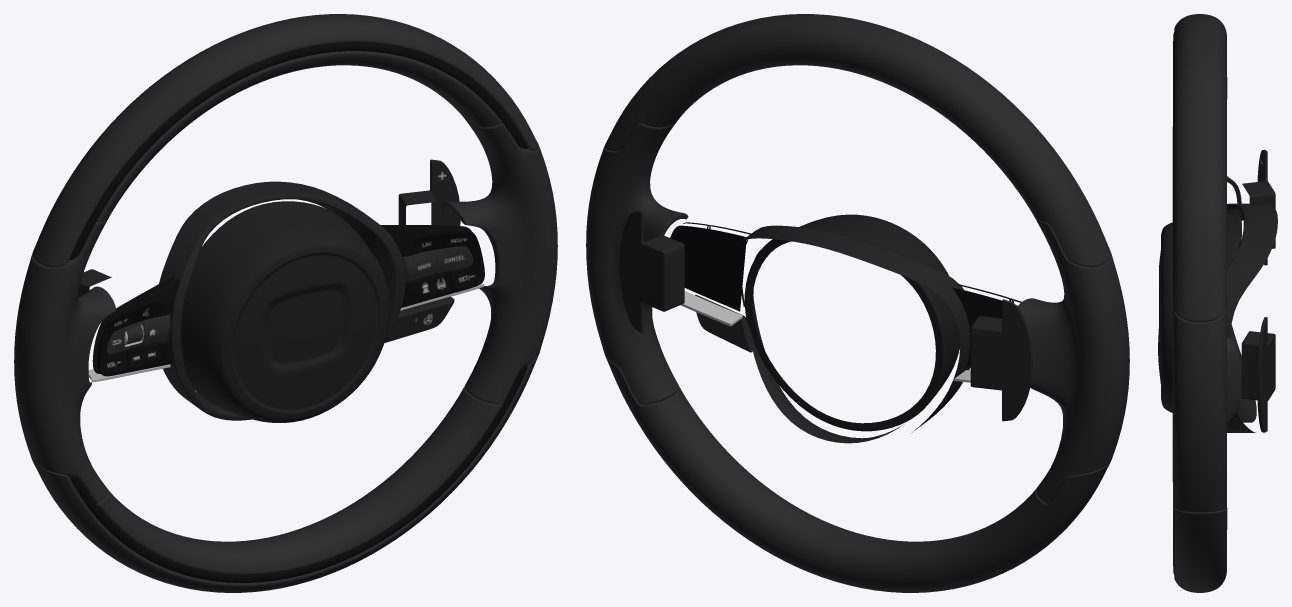
Rendered from cockpit_wheel.gltf.
The picture shows the model from 3 angles, left to right: view 1: azimuth 30°, elevation 25°; view 2: azimuth 150°, elevation 25°; view 3: azimuth 270°, elevation 25°; orthographic projection. The views are drawn at different scales.
Parts seen in each view (by area): view 1: Cockpit_TurningWheel; view 2: Cockpit_TurningWheel; view 3: Cockpit_TurningWheel.
Part boxes in pixels (left/top/right/bottom): Cockpit_TurningWheel: left=14, top=14, right=557, bottom=592; Cockpit_TurningWheel: left=586, top=14, right=1129, bottom=592; Cockpit_TurningWheel: left=1158, top=14, right=1277, bottom=592.
Size of the model in its own units: 0.3176 by 0.3176 by 0.0658.
Materials: 2 (1 with a texture image).
